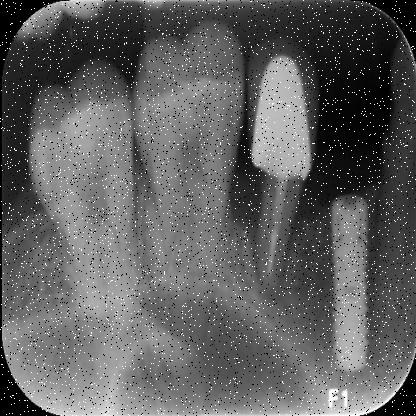ITI: (327, 195, 369, 376)
